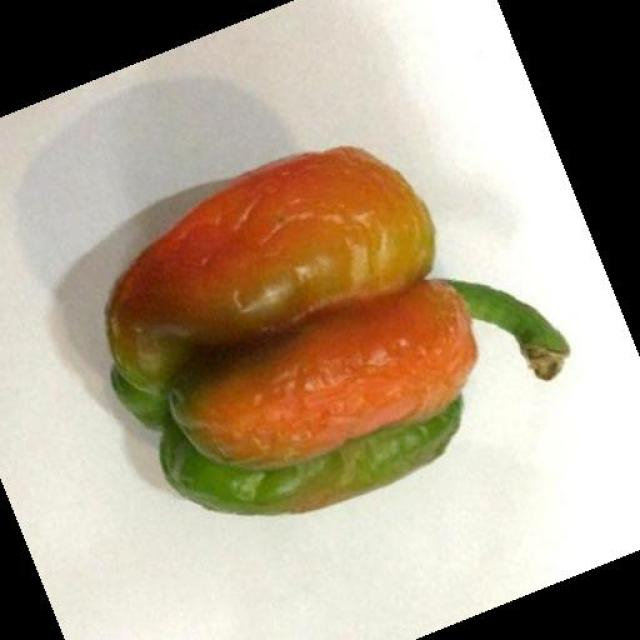Stale_Capsicum: (96, 140, 588, 510)
